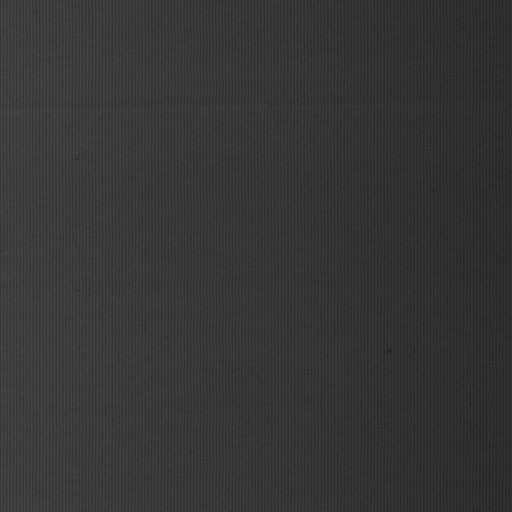defect: (2, 96, 512, 119)
